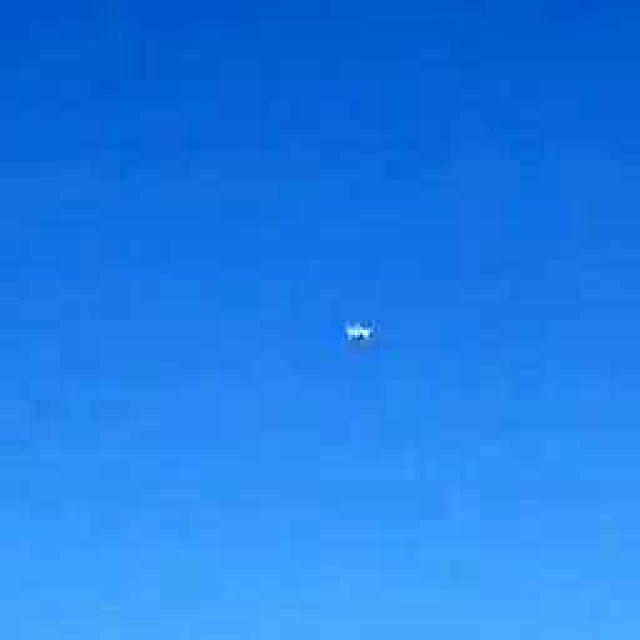bird: (318, 284, 402, 381)
